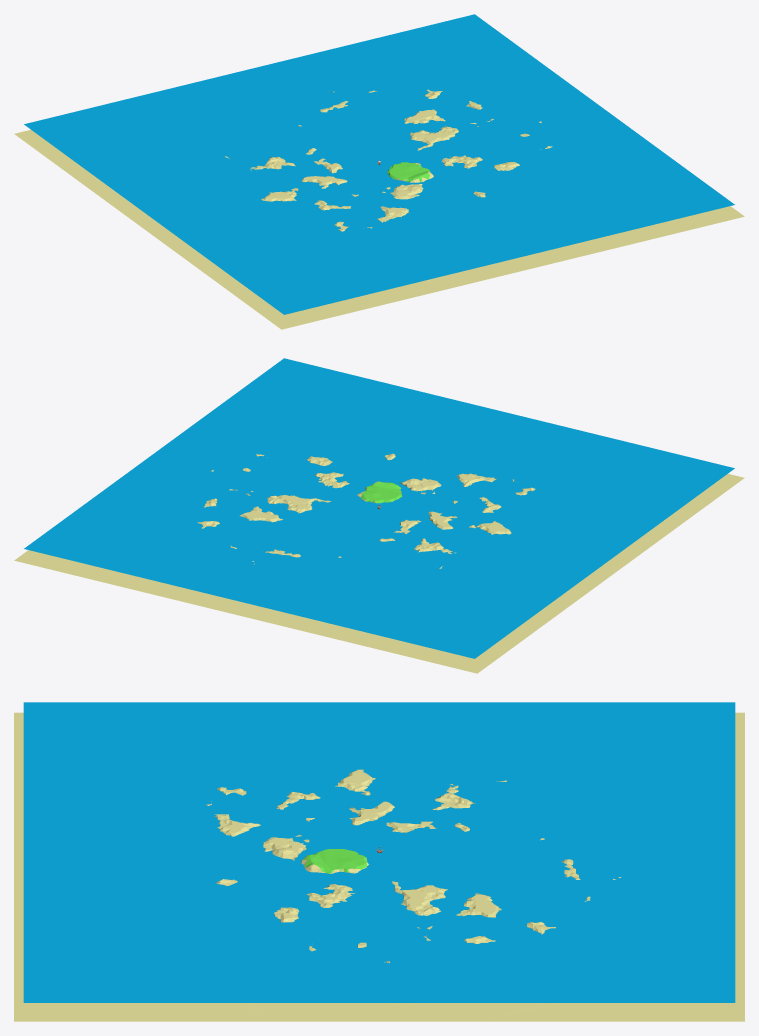
File: terrain.glb
3 renders of one model, top to bottom at view 1: azimuth 30°, elevation 25°; view 2: azimuth 150°, elevation 25°; view 3: azimuth 270°, elevation 25°, orthographic. The views are drawn at different scales.
Parts seen in each view (by area): view 1: helper-water, Landscape-col; view 2: helper-water, Landscape-col; view 3: helper-water, Landscape-col.
Part boxes in pixels (x1,y1,x2,y2): helper-water: [24, 14, 734, 314]; Landscape-col: [14, 89, 744, 329]; helper-water: [24, 358, 734, 658]; Landscape-col: [14, 453, 744, 673]; helper-water: [23, 702, 735, 1002]; Landscape-col: [14, 712, 744, 1021].
Bounding box in the file's own units: 10 × 0.3167 × 10.
Materials: 5 (2 with a texture image).
